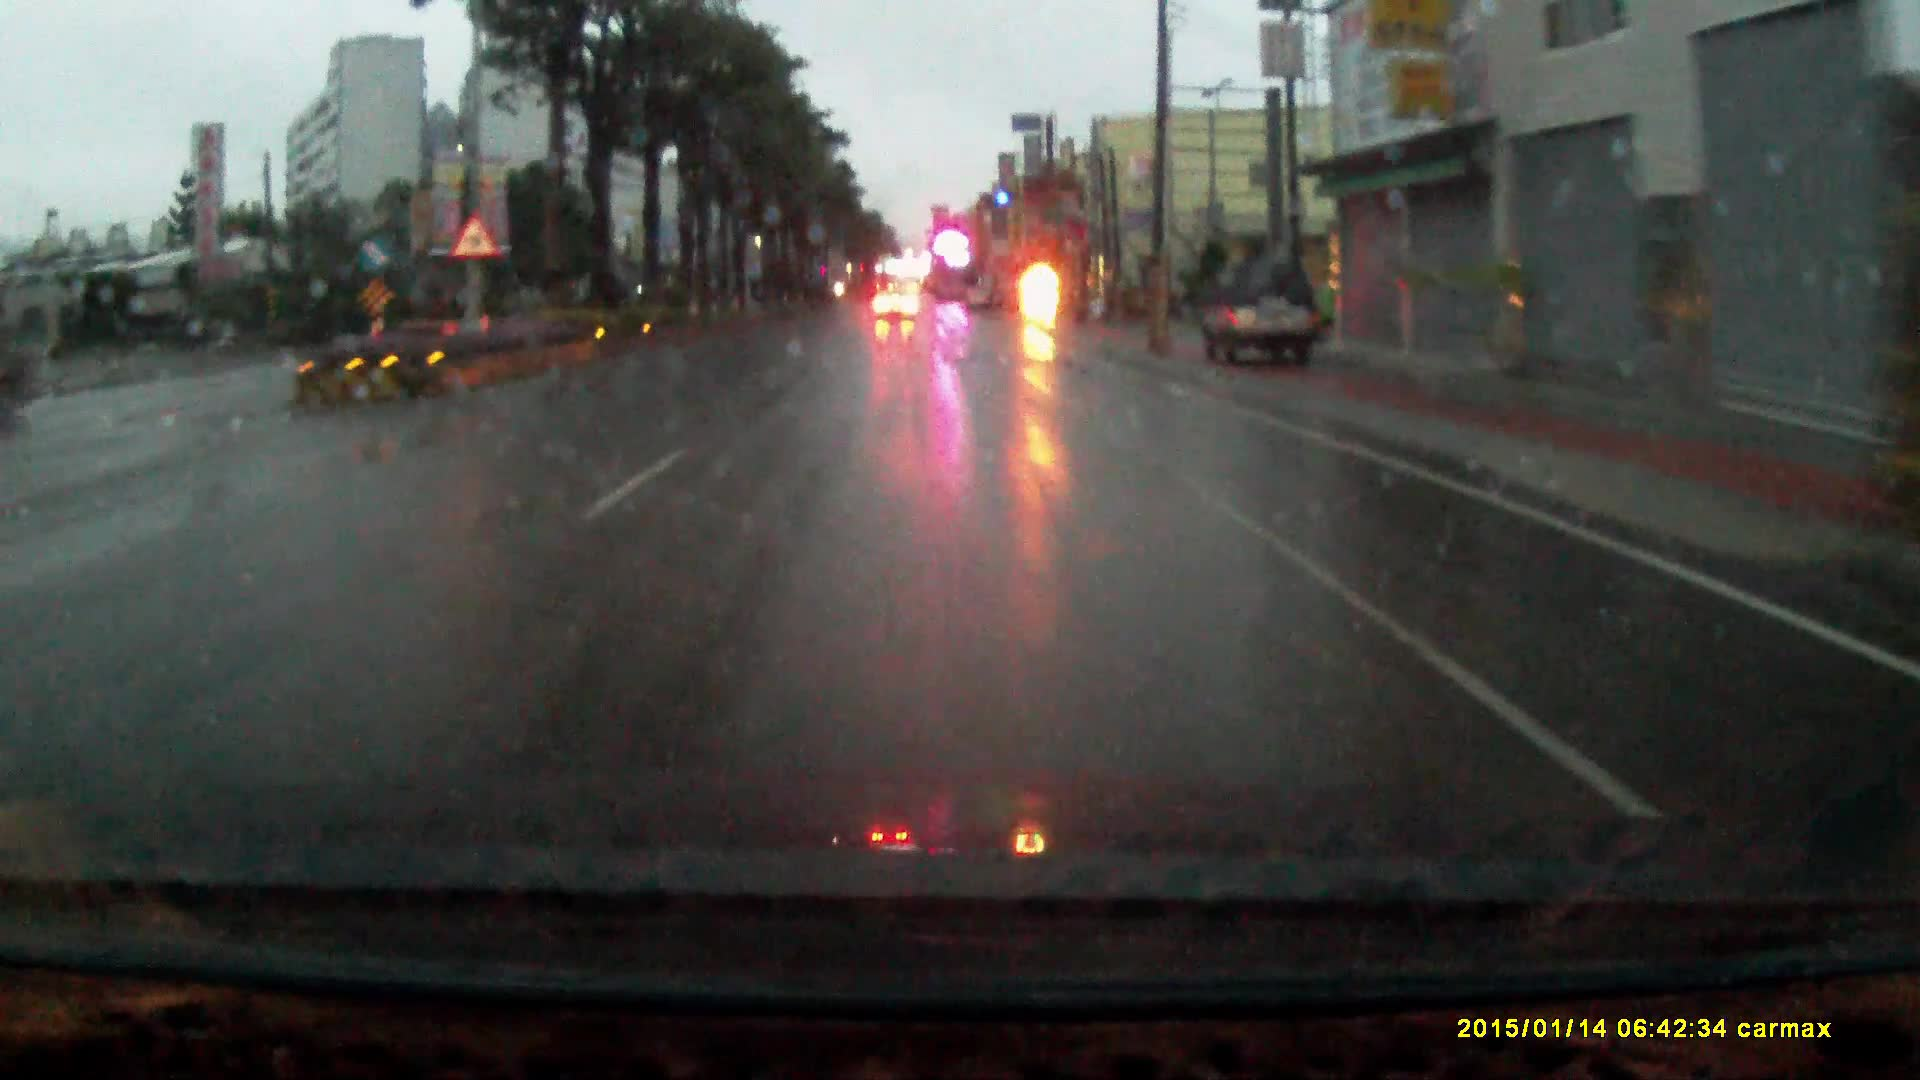vehicle: (1197, 258, 1325, 373), (872, 284, 918, 319)
